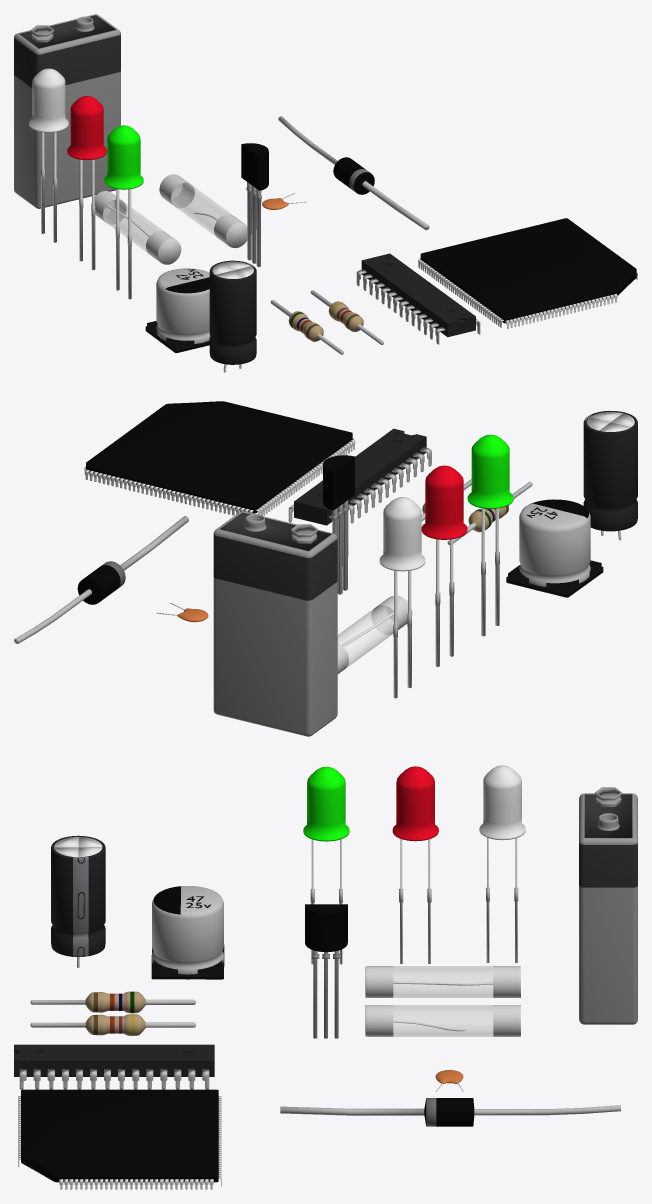
File: Presentation.fbx
The picture shows the model from 3 angles, top to bottom: view 1: azimuth 30°, elevation 25°; view 2: azimuth 150°, elevation 25°; view 3: azimuth 270°, elevation 25°; orthographic projection. The views are drawn at different scales.
Parts seen in each view (by area): view 1: Cube.032, Cube.033, Cylinder.003, Cylinder, Cube.025, Cylinder.012, Cylinder.011, Cylinder.007, Cylinder.005, Cylinder.006, Cylinder.016, Cylinder.008 (+7 smaller); view 2: Cube.033, Cube.032, Cylinder.003, Cylinder, Cube.025, Cylinder.006, Cylinder.005, Cylinder.007, Cylinder.011, Cylinder.016, Cylinder.008, Cube.030 (+11 smaller); view 3: Cube.032, Cube.033, Cylinder.003, Cube.025, Cylinder, Cylinder.011, Cylinder.012, Cylinder.016, Cylinder.005, Cylinder.007, Cylinder.006, Cylinder.008 (+6 smaller).
Boxes of the visible parts, x1,y1,x2,y2 form: Cube.032: [420, 218, 636, 323]; Cube.033: [14, 14, 120, 208]; Cylinder.003: [209, 260, 256, 364]; Cylinder: [156, 268, 210, 347]; Cube.025: [361, 253, 475, 337]; Cylinder.012: [159, 174, 247, 248]; Cylinder.011: [91, 191, 181, 264]; Cylinder.007: [29, 68, 68, 132]; Cylinder.005: [104, 125, 143, 189]; Cylinder.006: [67, 96, 106, 159]; Cylinder.016: [278, 116, 429, 230]; Cylinder.008: [241, 143, 268, 190]; Cube.033: [213, 511, 337, 736]; Cube.032: [86, 401, 352, 513]; Cylinder.003: [583, 410, 637, 531]; Cylinder: [519, 499, 590, 586]; Cube.025: [294, 428, 426, 525]; Cylinder.006: [421, 465, 467, 539]; Cylinder.005: [467, 434, 513, 508]; Cylinder.007: [379, 497, 425, 571]; Cylinder.011: [337, 595, 412, 673]; Cylinder.016: [14, 516, 188, 643]; Cylinder.008: [323, 455, 354, 510]; Cube.030: [85, 469, 253, 515]; Cube.032: [21, 1089, 218, 1182]; Cube.033: [579, 793, 637, 1024]; Cylinder.003: [51, 835, 105, 956]; Cube.025: [14, 1044, 214, 1076]; Cylinder: [152, 886, 223, 979]; Cylinder.011: [365, 966, 520, 997]; Cylinder.012: [365, 1005, 520, 1036]; Cylinder.016: [280, 1098, 620, 1126]; Cylinder.005: [303, 766, 349, 841]; Cylinder.007: [479, 765, 525, 840]; Cylinder.006: [392, 766, 438, 841]; Cylinder.008: [305, 904, 347, 952].
Size of what is drawn, in the model's own units: 233 by 90.26 by 256.
Materials: 38 (1 with a texture image).
